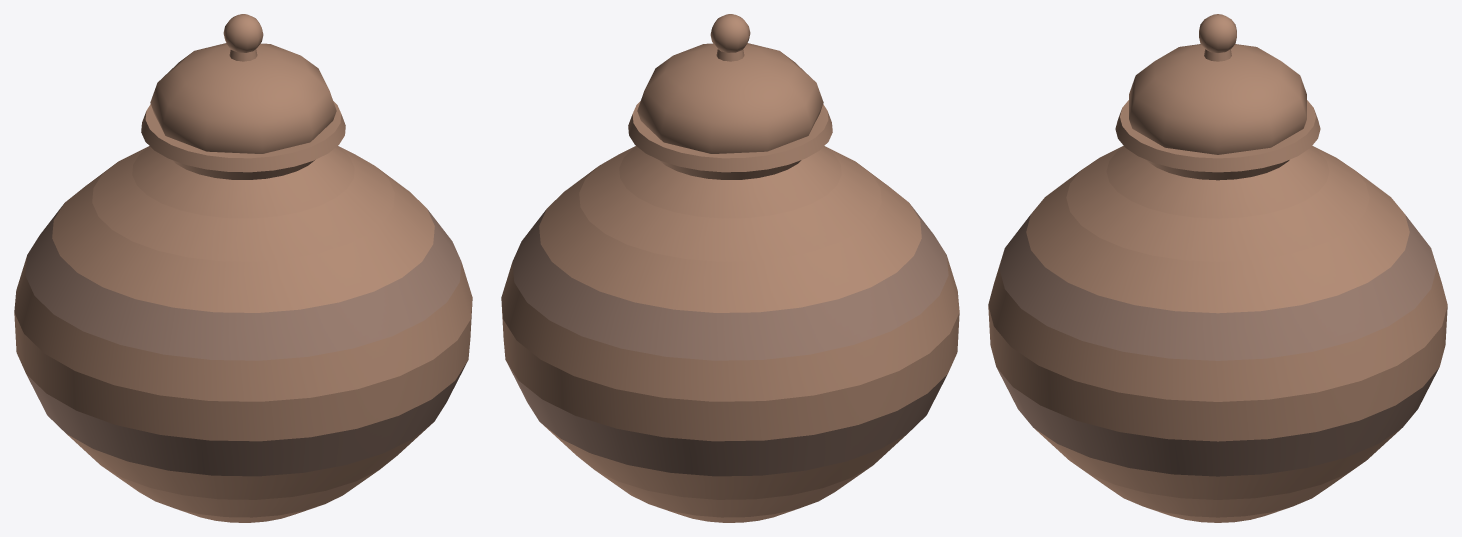
The model's file is kaom.glb.
The picture shows the model from 3 angles, left to right: view 1: azimuth 30°, elevation 25°; view 2: azimuth 150°, elevation 25°; view 3: azimuth 270°, elevation 25°; orthographic projection.
Size of the model in its own units: 2.06 by 2.35 by 2.06.
